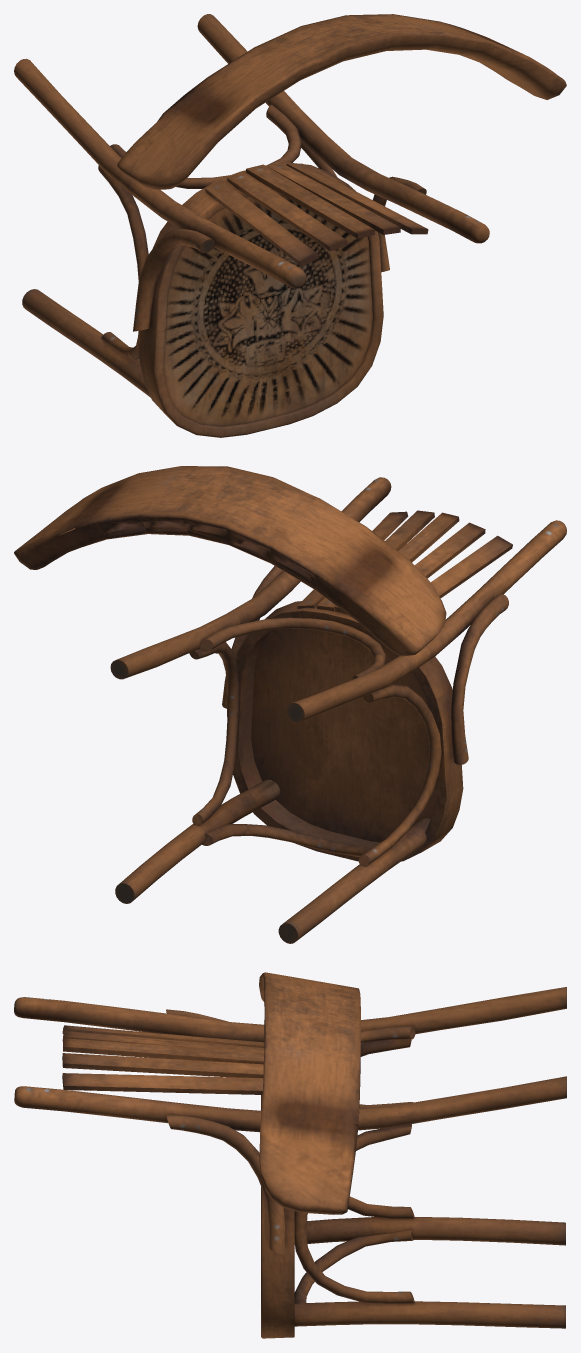
Rendered from egyptian-chair-82e951.glb.
3 views of the same model, one above another, from view 1: azimuth 30°, elevation 25°; view 2: azimuth 150°, elevation 25°; view 3: azimuth 270°, elevation 25° (orthographic). The views are drawn at different scales.
Visible parts, largest first — view 1: PropMesh; view 2: PropMesh; view 3: PropMesh.
Boxes of the visible parts, <box> form: PropMesh: <box>14,14,566,437</box>; PropMesh: <box>14,466,566,943</box>; PropMesh: <box>14,972,566,1338</box>.
Size of the model in its own units: 2.78 by 2.2 by 3.03.
Materials: 1 (1 with a texture image).
